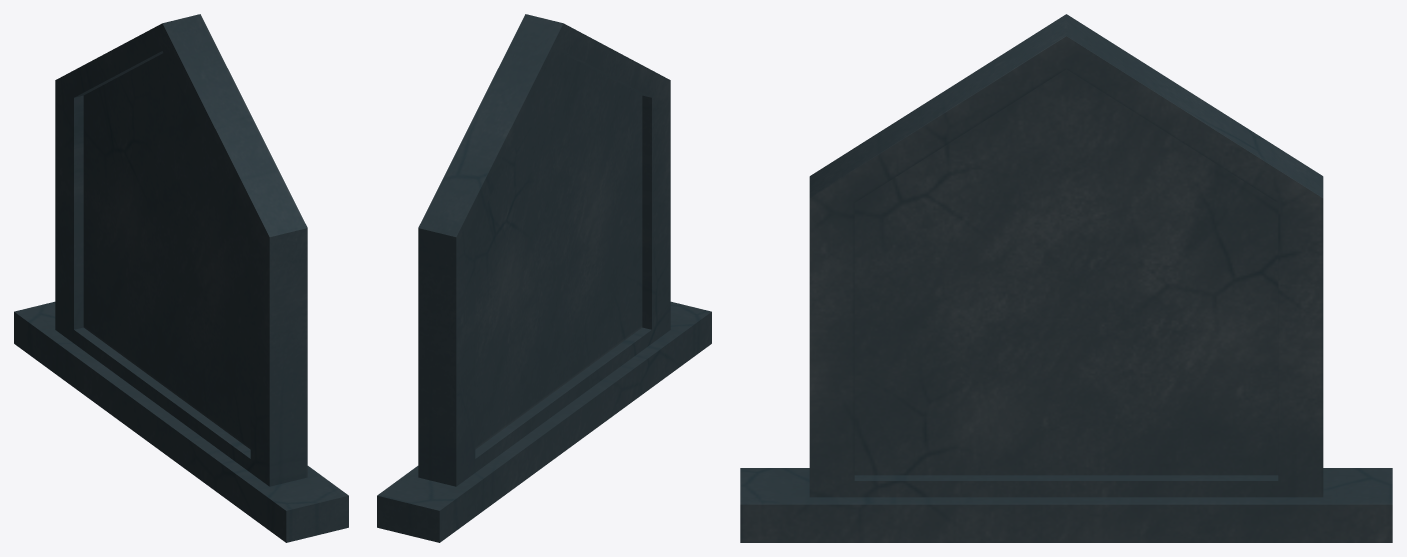
File: Gravestone24_Model.fbx
3 renders of one model, left to right at view 1: azimuth 30°, elevation 25°; view 2: azimuth 150°, elevation 25°; view 3: azimuth 270°, elevation 25°, orthographic. The views are drawn at different scales.
Parts seen in each view (by area): view 1: Gravestone24; view 2: Gravestone24; view 3: Gravestone24.
Part boxes in pixels (<box>): Gravestone24: <box>14,14,348,542</box>; Gravestone24: <box>377,14,711,542</box>; Gravestone24: <box>740,14,1392,542</box>.
Size of the model in its own units: 8.43 by 53.56 by 63.37.
